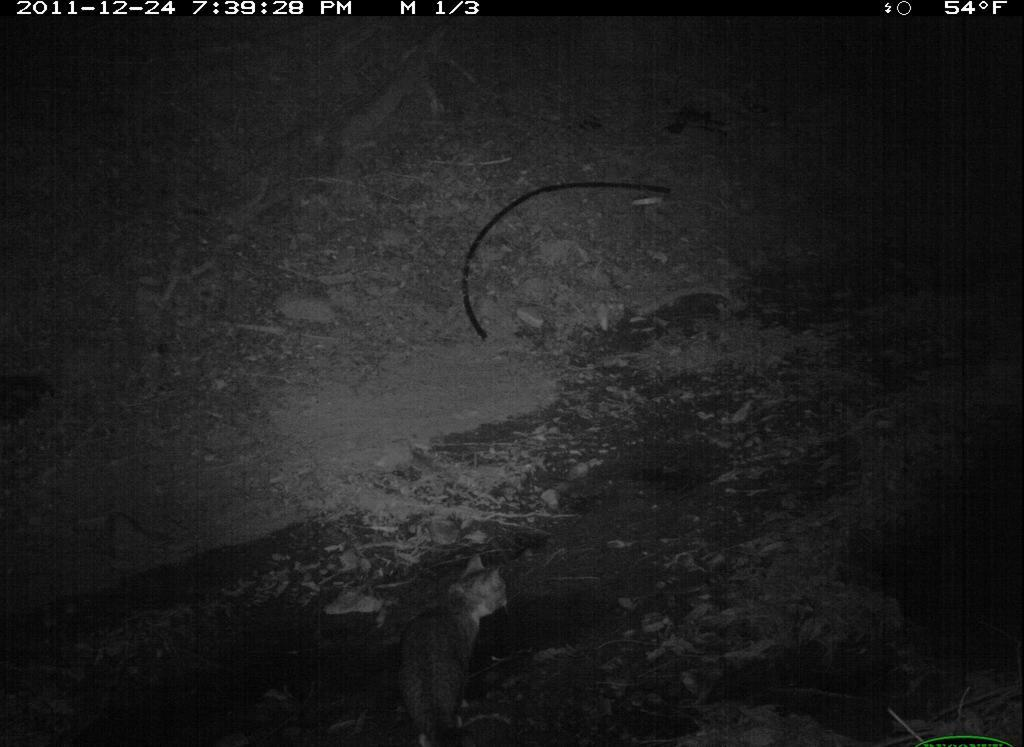cat: (382, 555, 521, 738)
